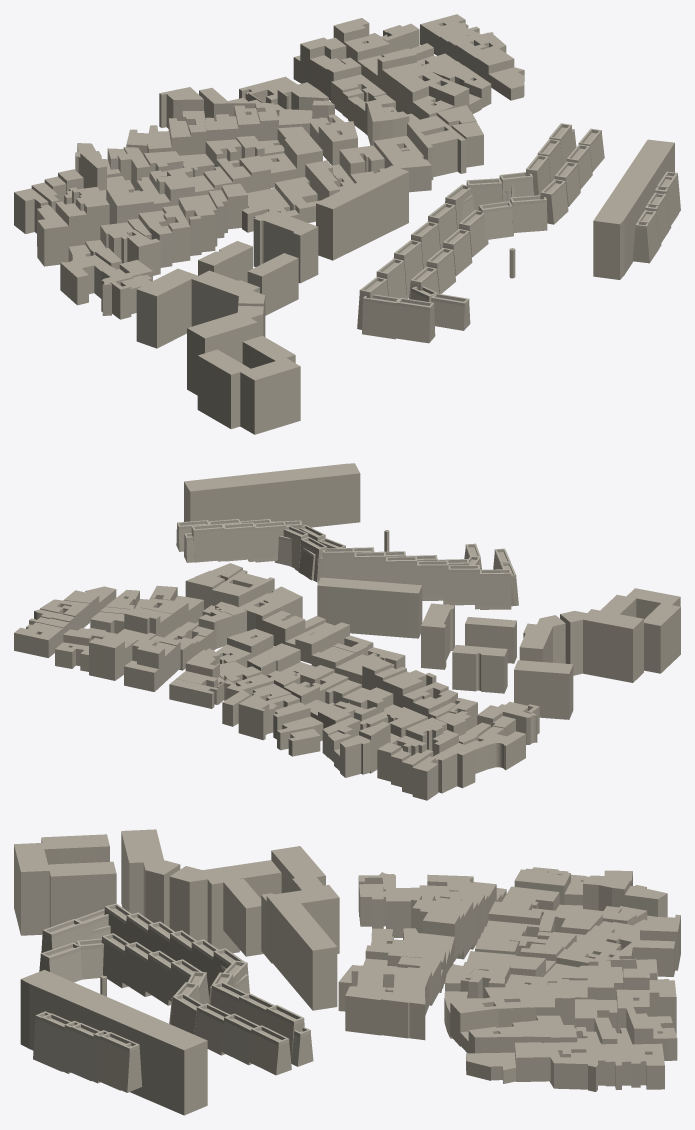
The model's file is bormla_61_30_collision.glb.
3 renders of one model, top to bottom at view 1: azimuth 30°, elevation 25°; view 2: azimuth 150°, elevation 25°; view 3: azimuth 270°, elevation 25°, orthographic. The views are drawn at different scales.
Parts seen in each view (by area): view 1: geometry_0; view 2: geometry_0; view 3: geometry_0.
Part boxes in pixels (left/top/right/bottom): geometry_0: left=14, top=14, right=680, bottom=434; geometry_0: left=14, top=463, right=680, bottom=800; geometry_0: left=14, top=829, right=680, bottom=1115.
Size of the model in its own units: 198 by 44.06 by 192.
